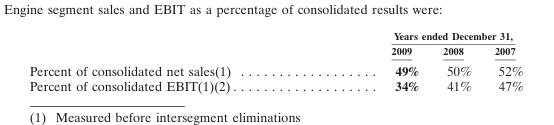table: (28, 28, 522, 93)
table column: (28, 28, 313, 93), (313, 28, 429, 93), (429, 28, 482, 93), (482, 28, 522, 93)
table column header: (28, 28, 522, 59)
table row: (28, 59, 522, 77), (28, 42, 522, 59), (28, 77, 522, 93), (28, 28, 522, 42)
table spanning cell: (313, 28, 522, 42)
